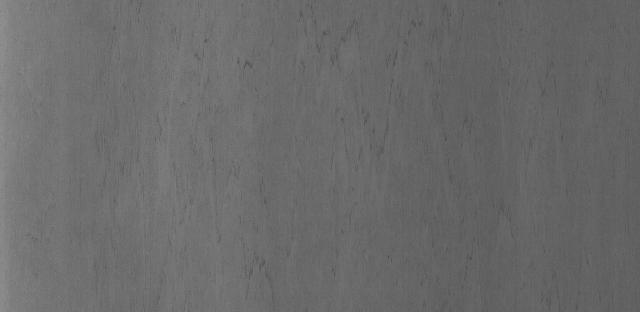silk_spot: (171, 13, 486, 282)
